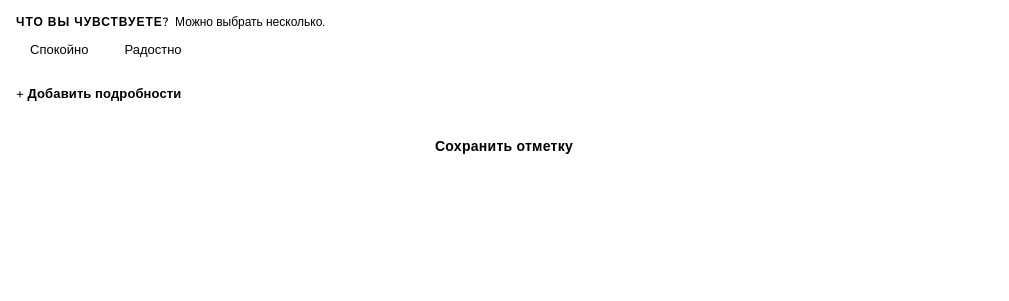
Test: clicking toggle opens details textarea
Click the button "+ Добавить подробности". click: (99, 94)
box: [16,81,182,107]
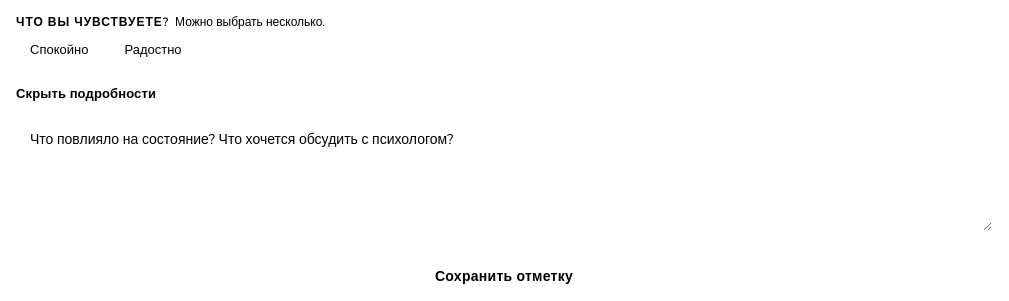
Now the text box is shown, box [16,117,992,231]
